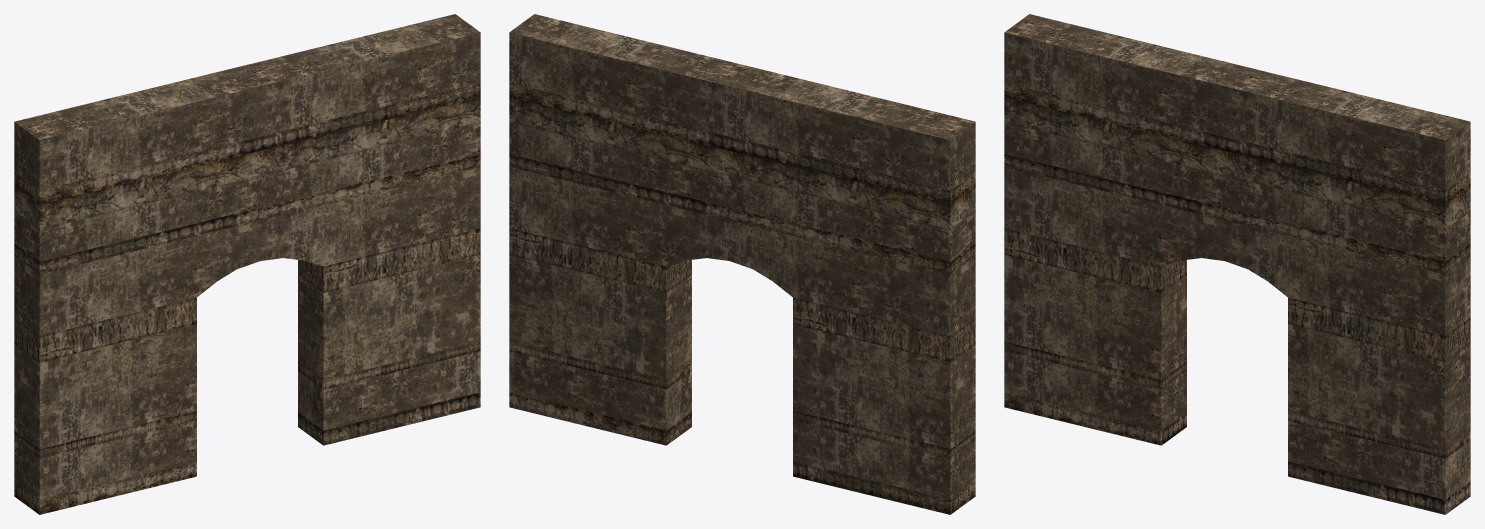
File: materials_5_wall_rectangle_10.fbx
3 views of the same model, side by side, from view 1: azimuth 30°, elevation 25°; view 2: azimuth 150°, elevation 25°; view 3: azimuth 330°, elevation 25° (orthographic).
Visible parts, largest first — view 1: materials_5_wall_rectangle_10; view 2: materials_5_wall_rectangle_10; view 3: materials_5_wall_rectangle_10.
Part boxes in pixels (x1,y1,x2,y2): materials_5_wall_rectangle_10: (14, 14, 480, 514); materials_5_wall_rectangle_10: (509, 14, 975, 514); materials_5_wall_rectangle_10: (1004, 14, 1470, 514).
Bounding box in the file's own units: 568 × 461 × 56.48.
